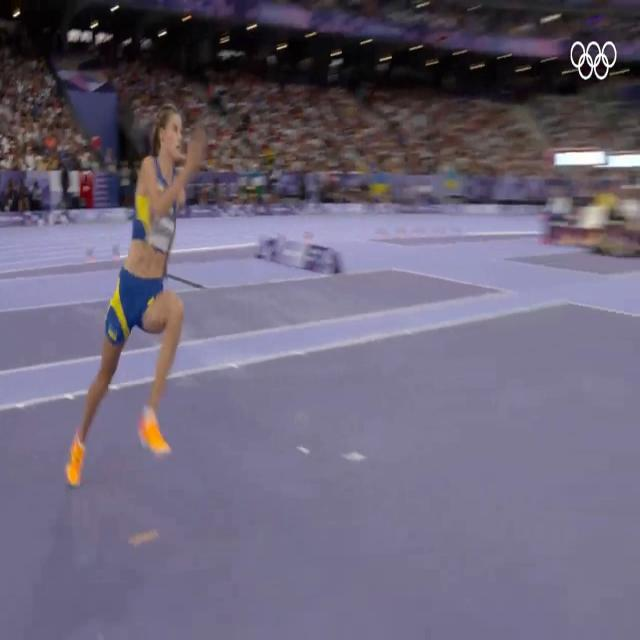run: (67, 105, 205, 492)
